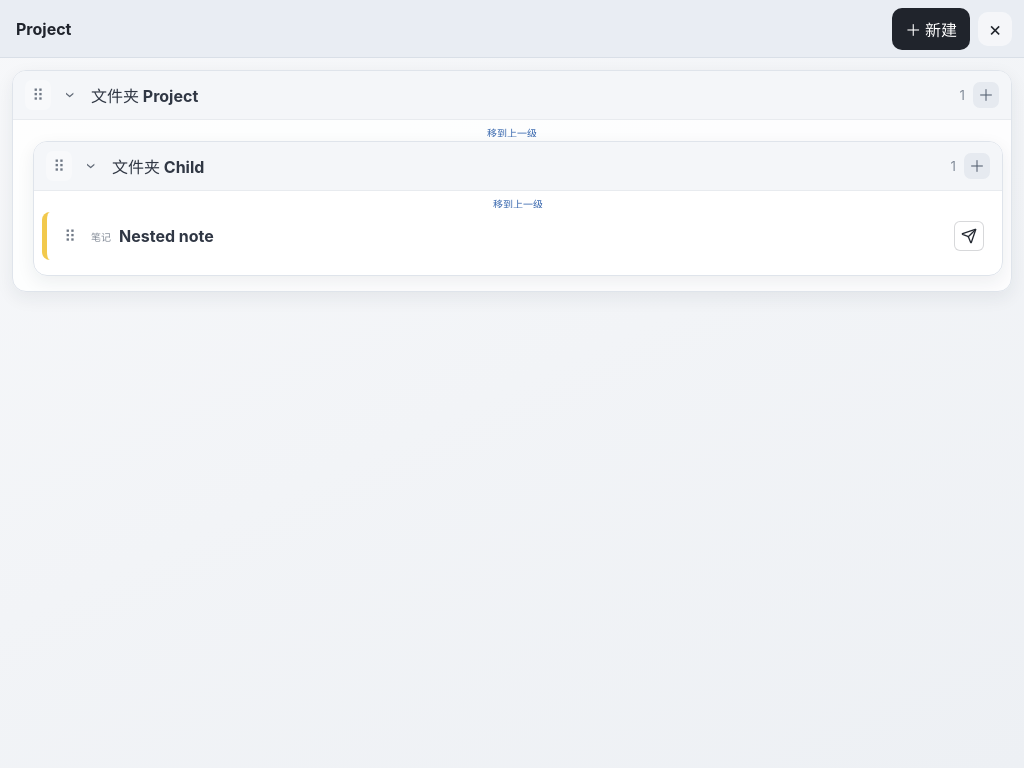
Scenario: DetachedFolder › shows the full subtree and edits an item in the same window
Expected: the text "Project" is shown, top-left (16, 18), bottom-right (72, 38)
Expected: the text "文件夹 Child" is shown, top-left (112, 157), bottom-right (204, 177)
Click the text "Nested note" at coordinates (166, 236), box top-left (119, 226), bottom-right (214, 246)
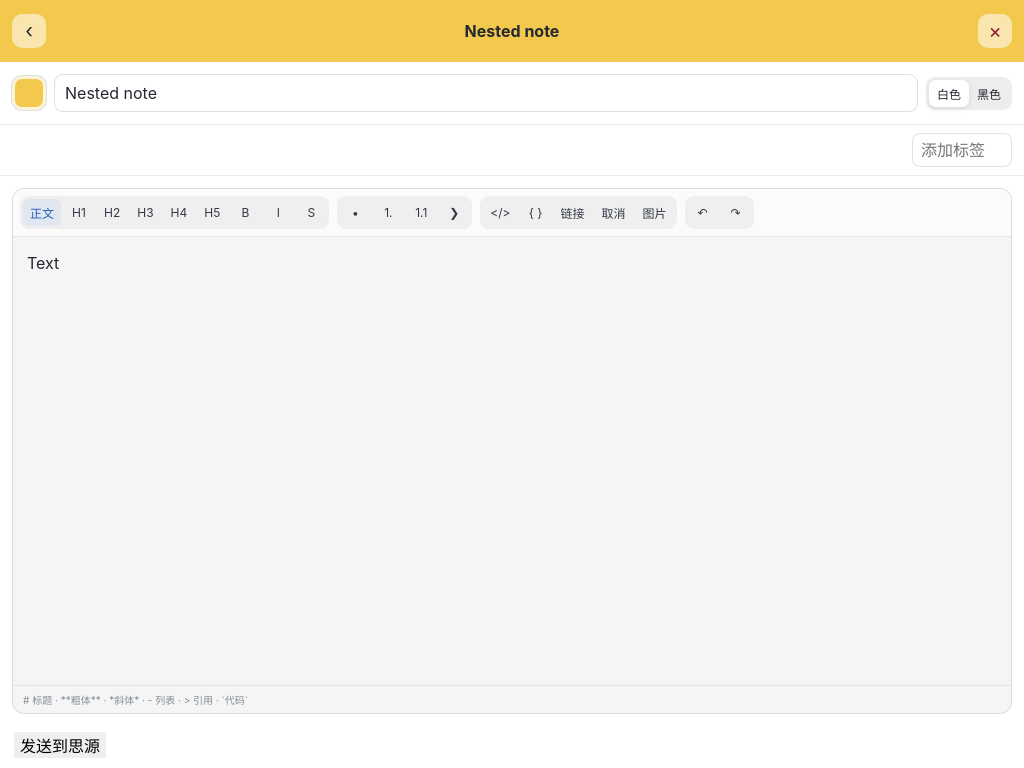
Expected: the field showing "Nested note" is shown, top-left (54, 74), bottom-right (918, 112)
Click the button with class "icon-button" showing "‹" at coordinates (29, 31), box top-left (12, 14), bottom-right (46, 48)
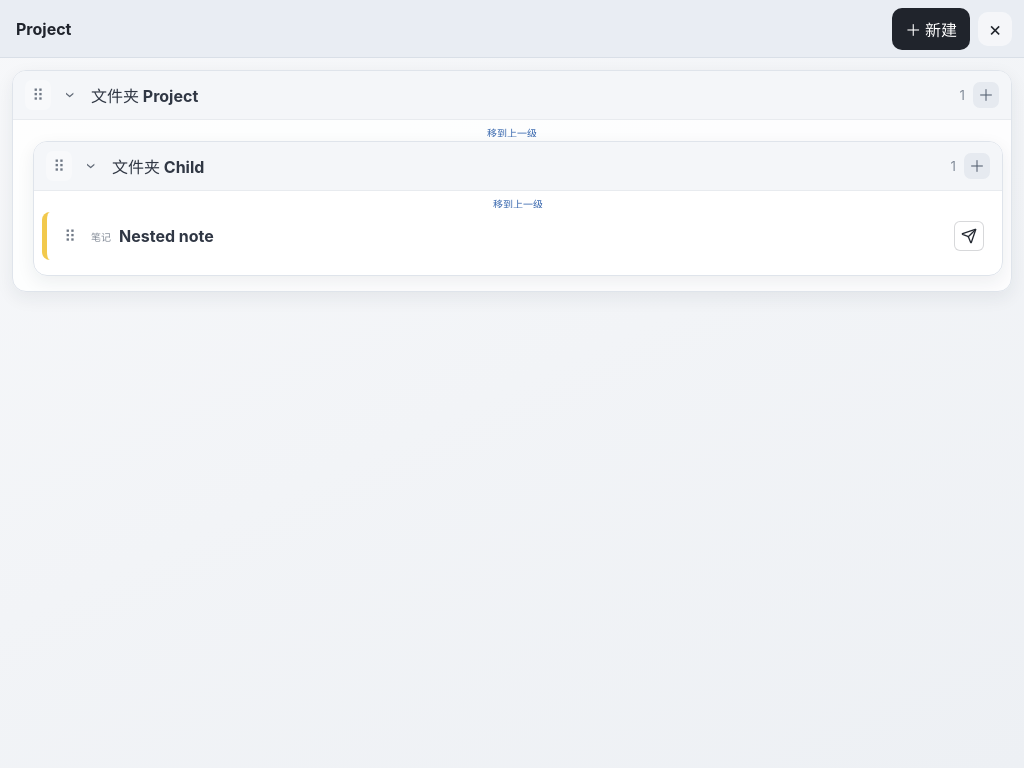
Expected: the text "Nested note" is shown, top-left (119, 226), bottom-right (214, 246)
Expected: the text "Project" is shown, top-left (16, 18), bottom-right (72, 38)
